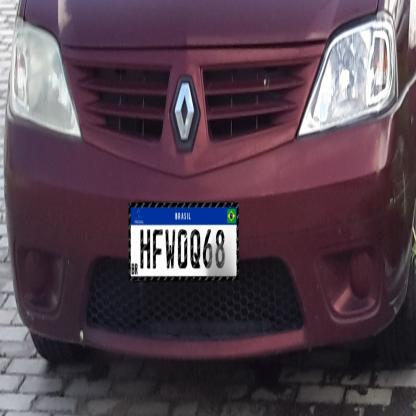PlacaM: (128, 203, 238, 280)
